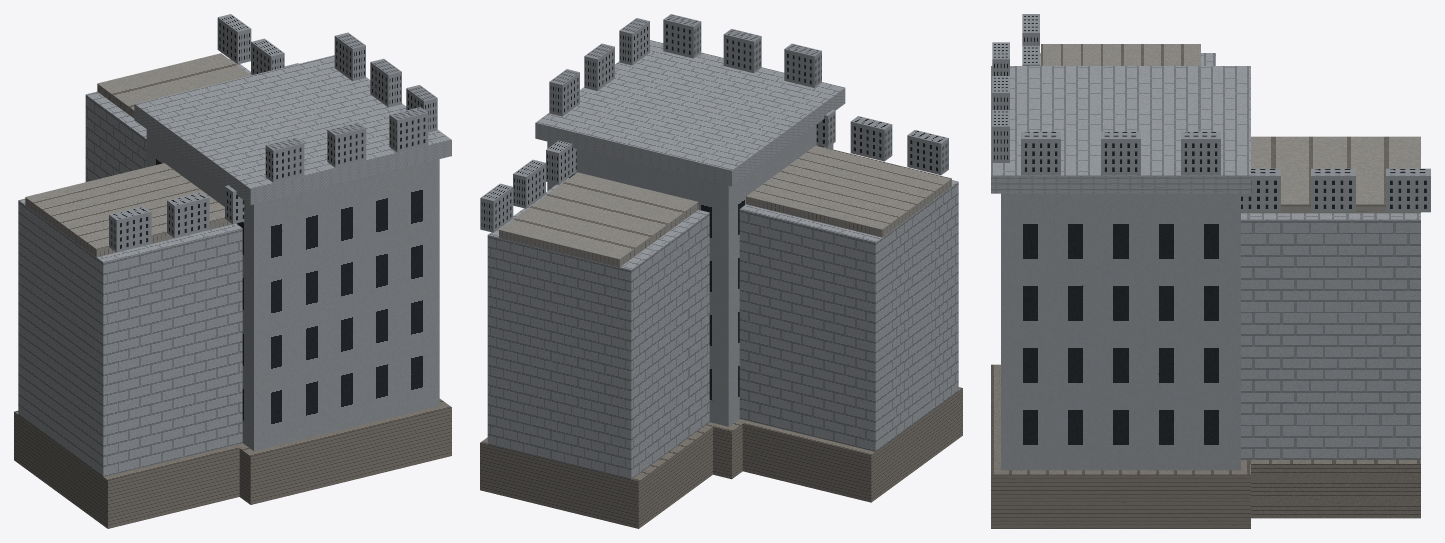
Rendered from great_wall_var2_corner_tower.glb.
3 views of the same model, side by side, from view 1: azimuth 30°, elevation 25°; view 2: azimuth 150°, elevation 25°; view 3: azimuth 270°, elevation 25° (orthographic). The views are drawn at different scales.
Visible parts, largest first — view 1: Great_Wall_Var2_Corner_Tower; view 2: Great_Wall_Var2_Corner_Tower; view 3: Great_Wall_Var2_Corner_Tower.
Boxes of the visible parts, <box> form: Great_Wall_Var2_Corner_Tower: <box>14,14,451,528</box>; Great_Wall_Var2_Corner_Tower: <box>480,14,962,528</box>; Great_Wall_Var2_Corner_Tower: <box>991,14,1430,528</box>.
Size of the model in its own units: 8.6 by 8.6 by 8.8.
1 material, 1 textured.
